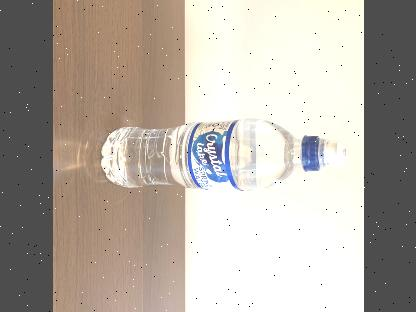Plastic Bottle: (100, 118, 348, 191)
